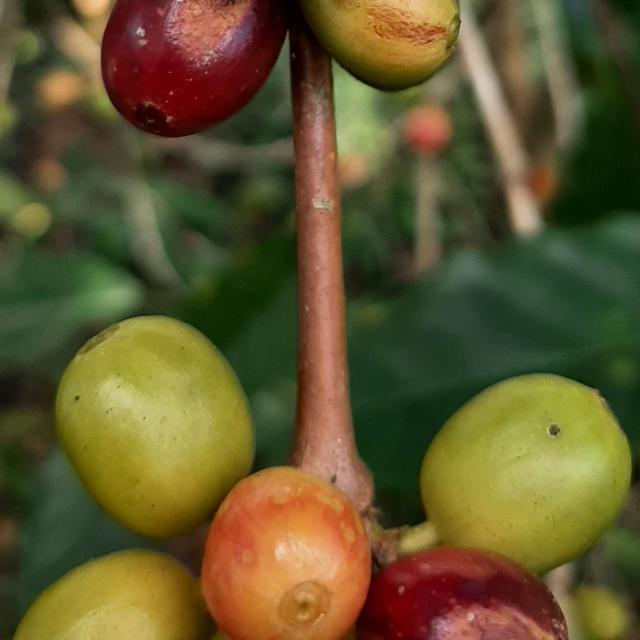green: (55, 317, 254, 539), (420, 374, 633, 574), (12, 551, 215, 640), (299, 0, 461, 90)
red: (101, 0, 287, 136), (357, 548, 569, 640)
yellow: (201, 467, 371, 640)
